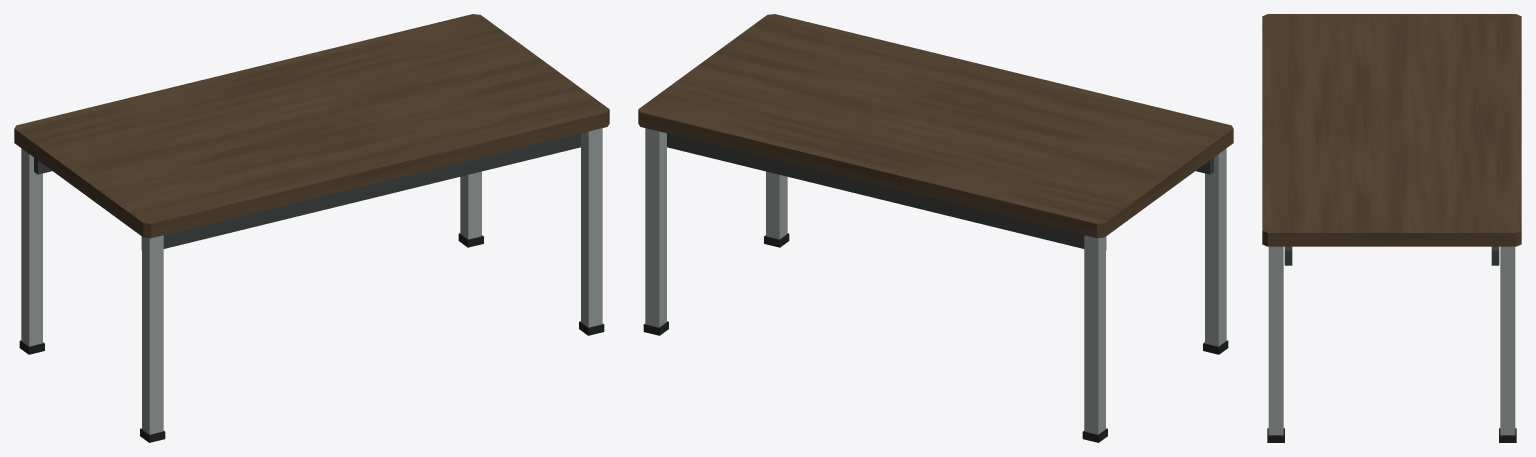
Rendered from SM_ArchiveProps_WorkTable_LOD2.glb.
The picture shows the model from 3 angles, left to right: view 1: azimuth 30°, elevation 25°; view 2: azimuth 150°, elevation 25°; view 3: azimuth 270°, elevation 25°; orthographic projection. The views are drawn at different scales.
Visible parts, largest first — view 1: SM_ArchiveProps_WorkTable_LOD2; view 2: SM_ArchiveProps_WorkTable_LOD2; view 3: SM_ArchiveProps_WorkTable_LOD2.
Boxes of the visible parts, x1,y1,x2,y2 form: SM_ArchiveProps_WorkTable_LOD2: [14, 14, 609, 442]; SM_ArchiveProps_WorkTable_LOD2: [638, 14, 1233, 442]; SM_ArchiveProps_WorkTable_LOD2: [1262, 14, 1521, 442].
Size of the model in its own units: 1.7 by 0.77 by 0.85.
4 materials, 1 textured.
